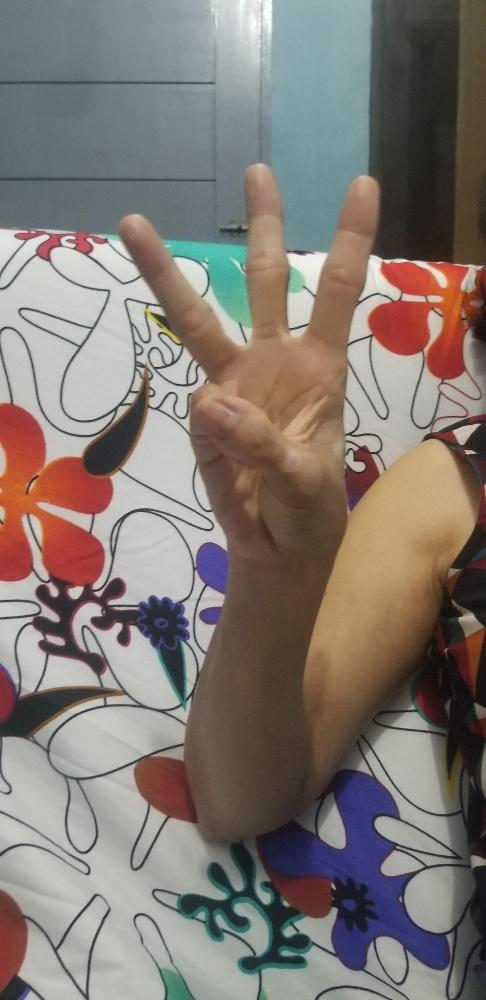w: (115, 159, 383, 571)
